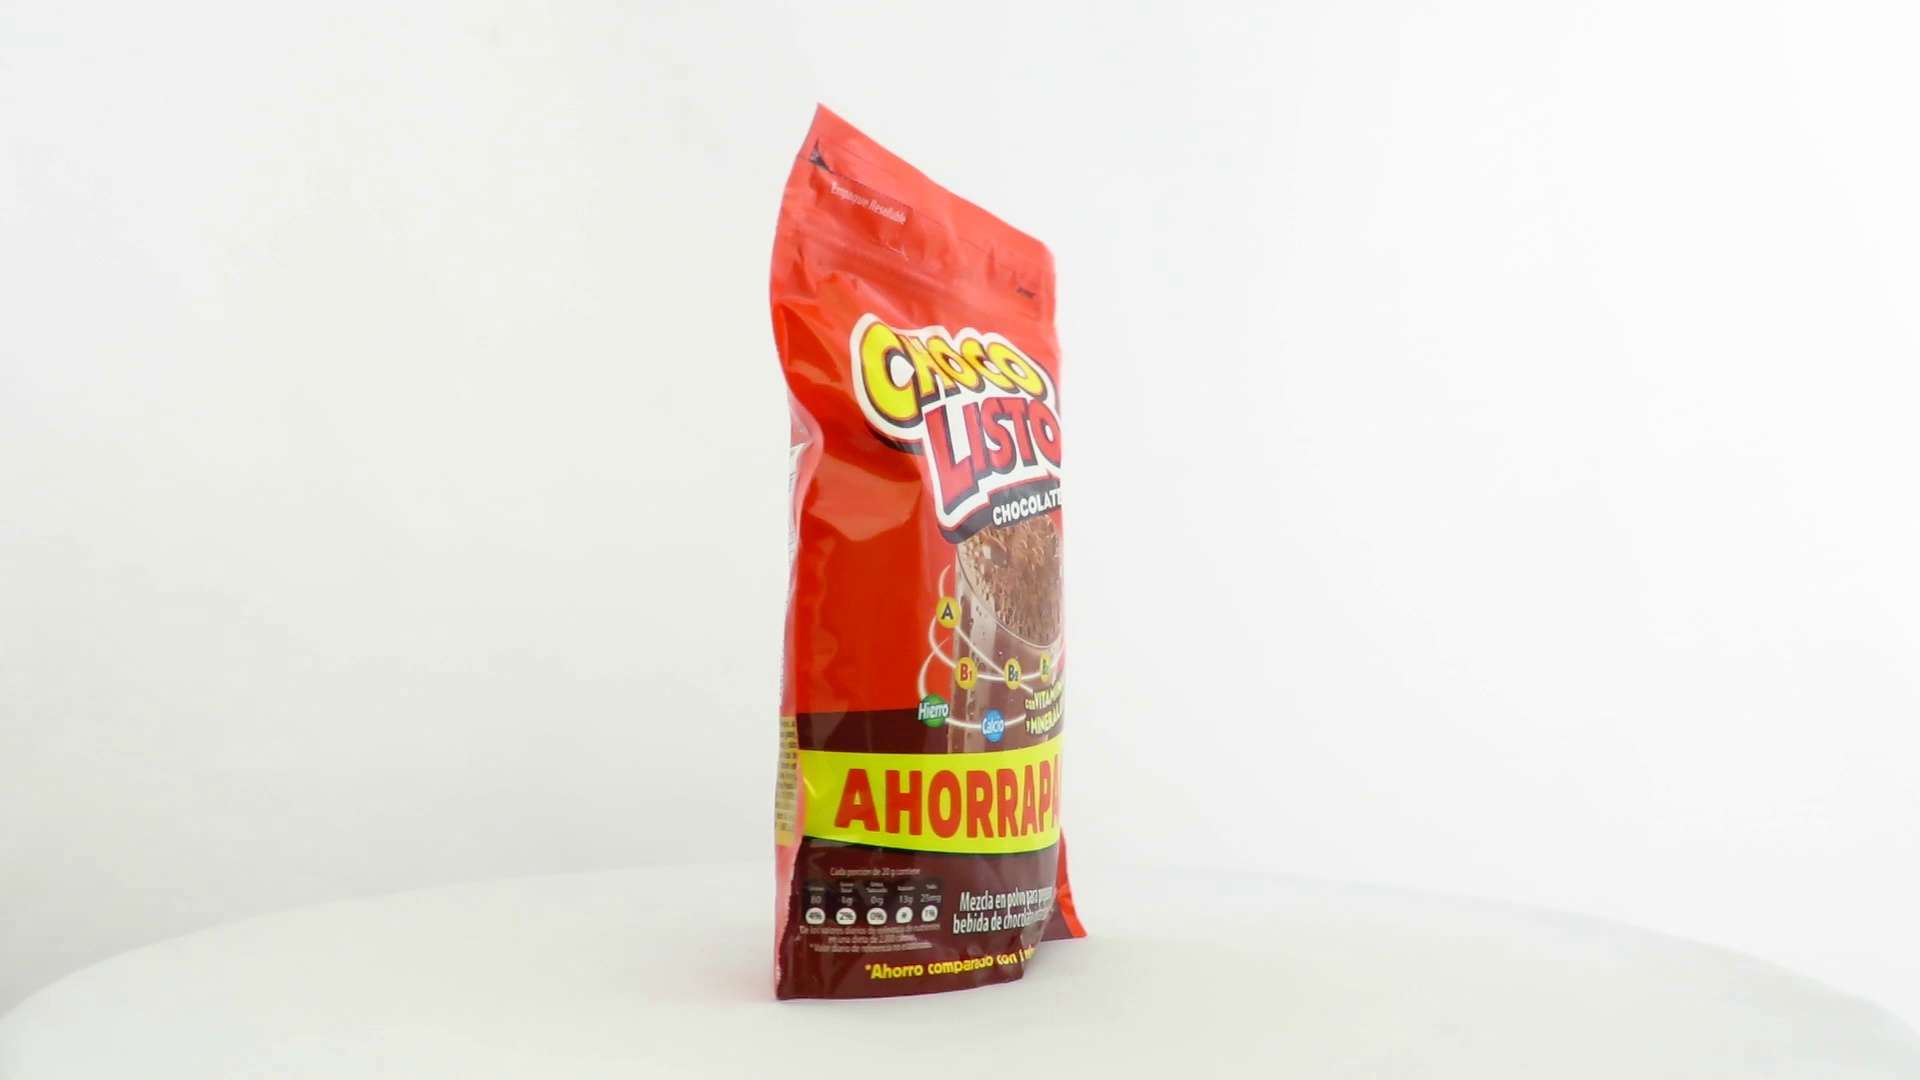COL0170103DYP40000: (764, 98, 1093, 1007)
